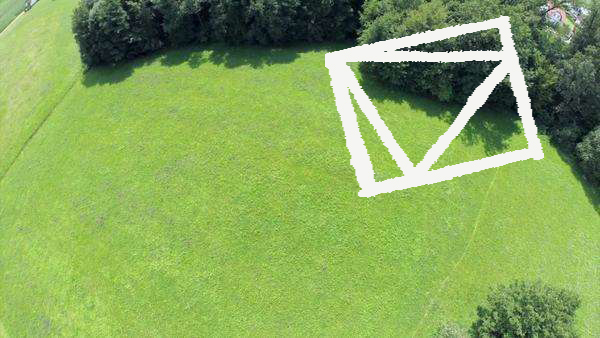marker: (319, 13, 550, 204)
